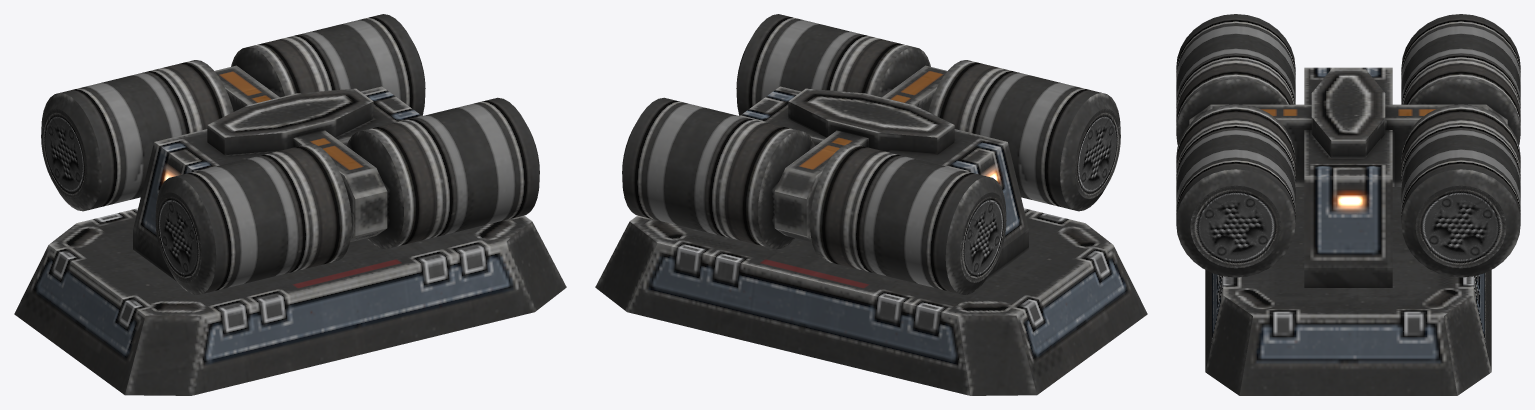
Rendered from ScifiShieldMatrix.fbx.
3 renders of one model, left to right at view 1: azimuth 30°, elevation 25°; view 2: azimuth 150°, elevation 25°; view 3: azimuth 270°, elevation 25°, orthographic.
Parts seen in each view (by area): view 1: ScifiShieldMatrix; view 2: ScifiShieldMatrix; view 3: ScifiShieldMatrix.
Boxes of the visible parts, bbox=[...] form: ScifiShieldMatrix: bbox=[14, 14, 566, 395]; ScifiShieldMatrix: bbox=[595, 14, 1147, 395]; ScifiShieldMatrix: bbox=[1176, 14, 1520, 395].
Bounding box in the file's own units: 3995 × 1738 × 2740.
